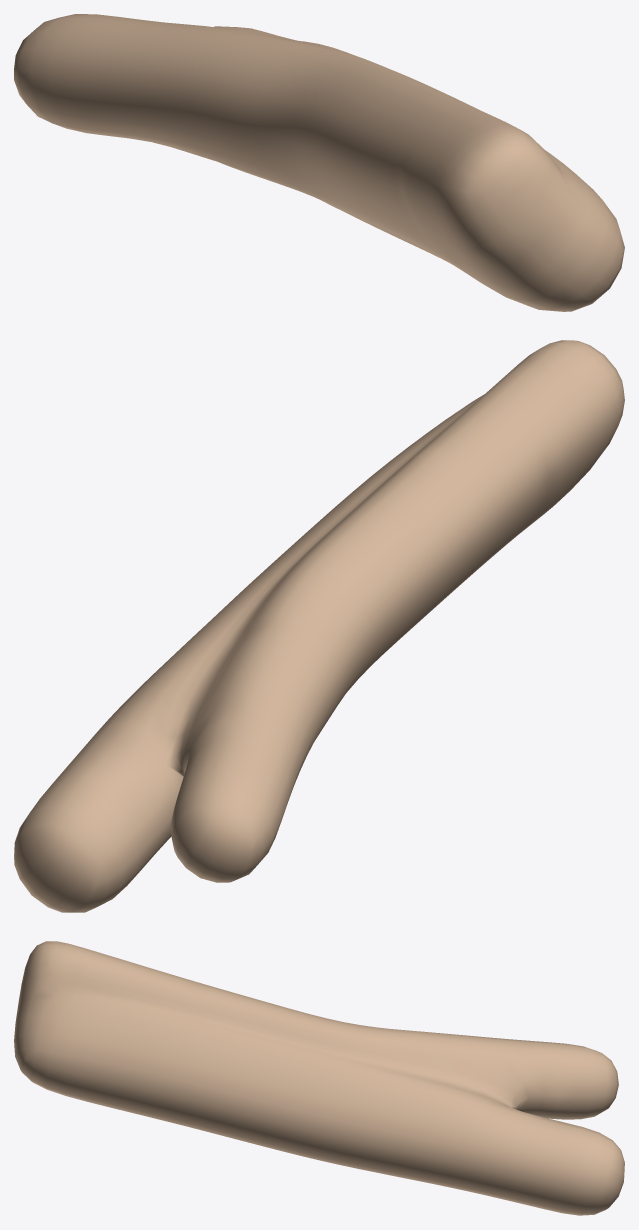
The picture shows the model from 3 angles, top to bottom: view 1: azimuth 30°, elevation 25°; view 2: azimuth 150°, elevation 25°; view 3: azimuth 270°, elevation 25°; orthographic projection. The views are drawn at different scales.
Parts seen in each view (by area): view 1: 左侧桡侧腕伸肌腱鞘; view 2: 左侧桡侧腕伸肌腱鞘; view 3: 左侧桡侧腕伸肌腱鞘.
Boxes of the visible parts, box(x1,y1,x2,y2) form: 左侧桡侧腕伸肌腱鞘: box(14, 14, 624, 311); 左侧桡侧腕伸肌腱鞘: box(14, 340, 624, 912); 左侧桡侧腕伸肌腱鞘: box(14, 941, 624, 1215).
Size of the model in its own units: 0.0156 by 0.0195 by 0.0477.
